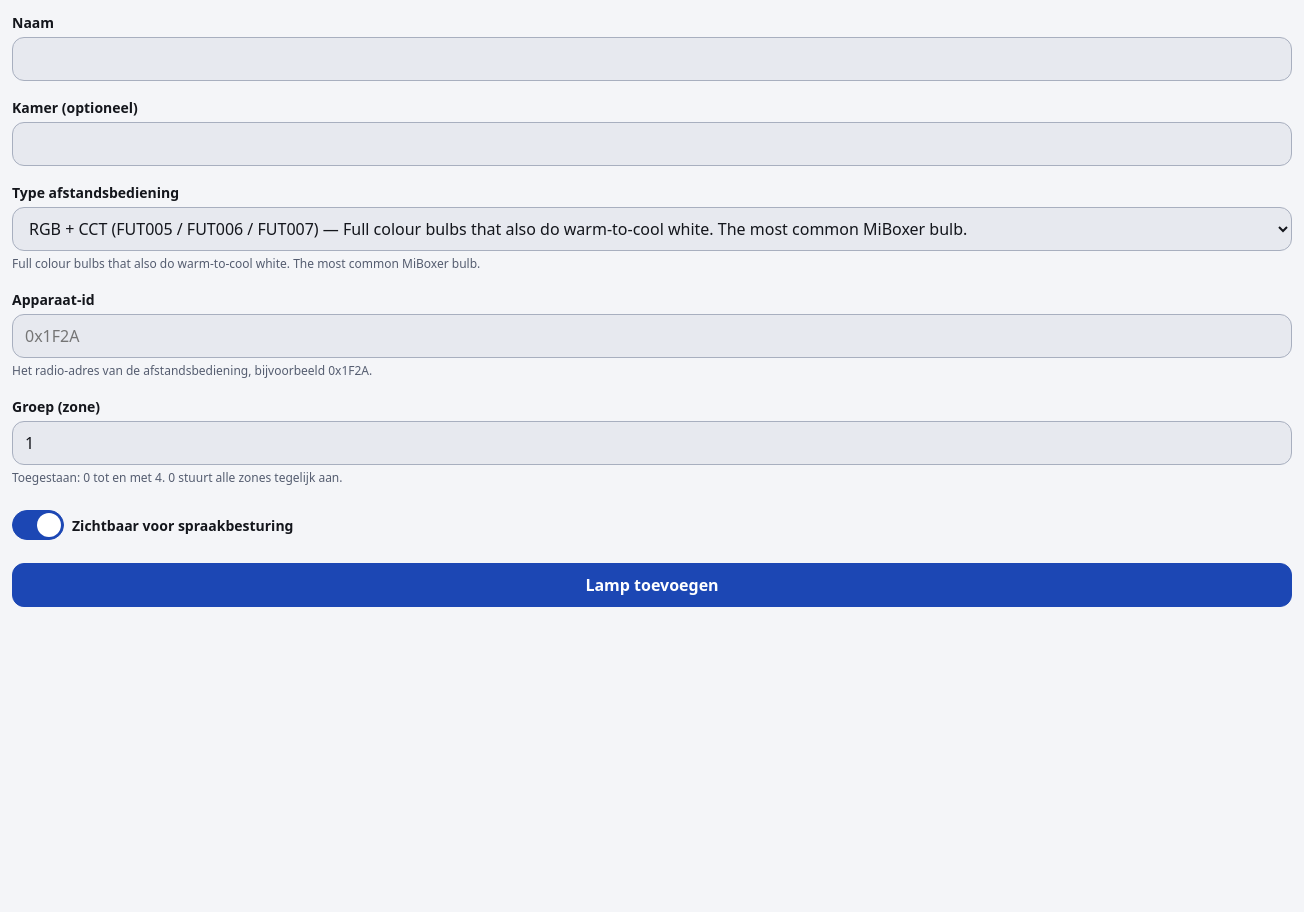
AddLightForm › reports a missing name
Click the button "Lamp toevoegen": (652, 585) x1=12 y1=563 x2=1292 y2=607
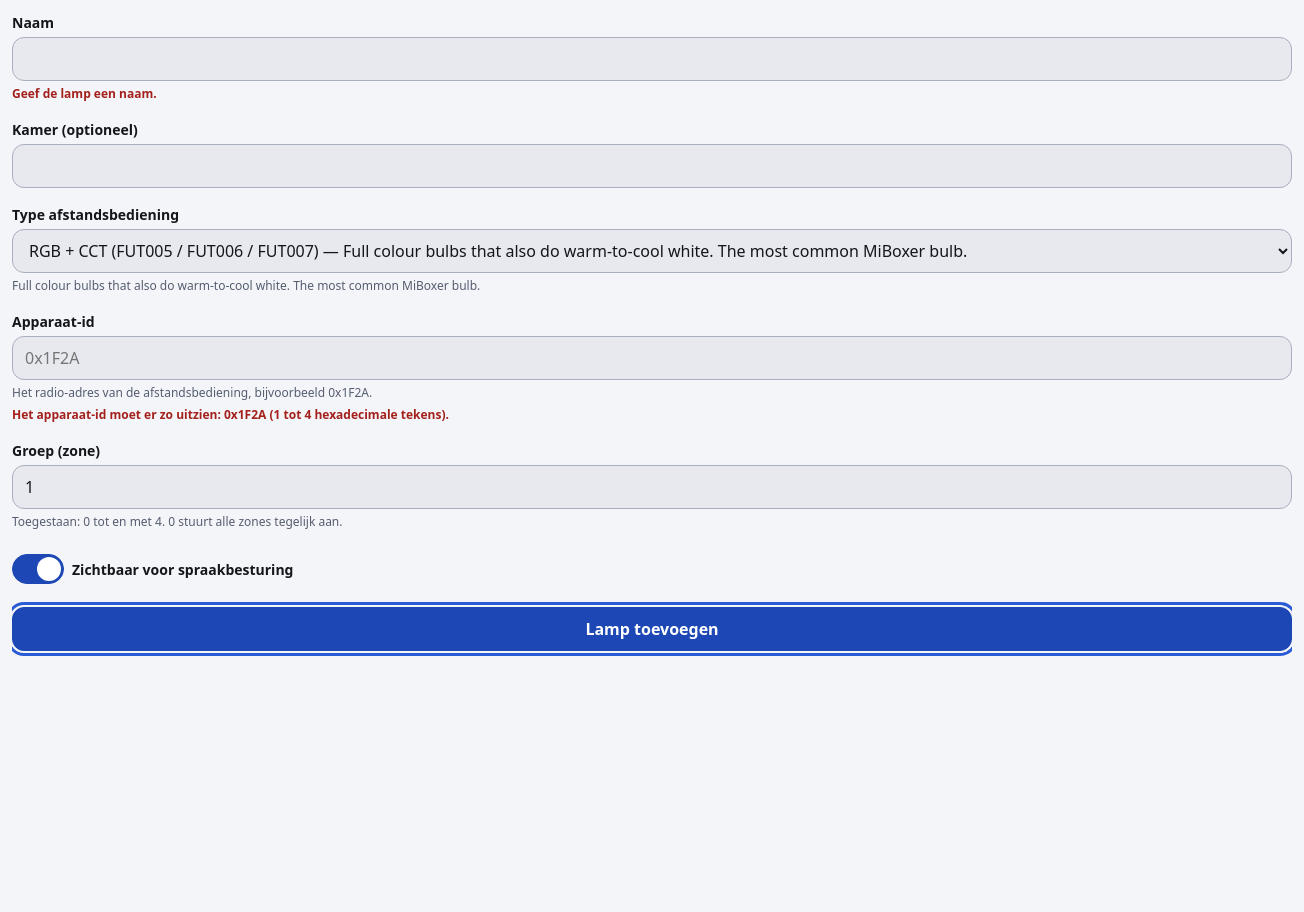
Now the text "Geef de lamp een naam." is shown, box x1=12 y1=85 x2=157 y2=102
